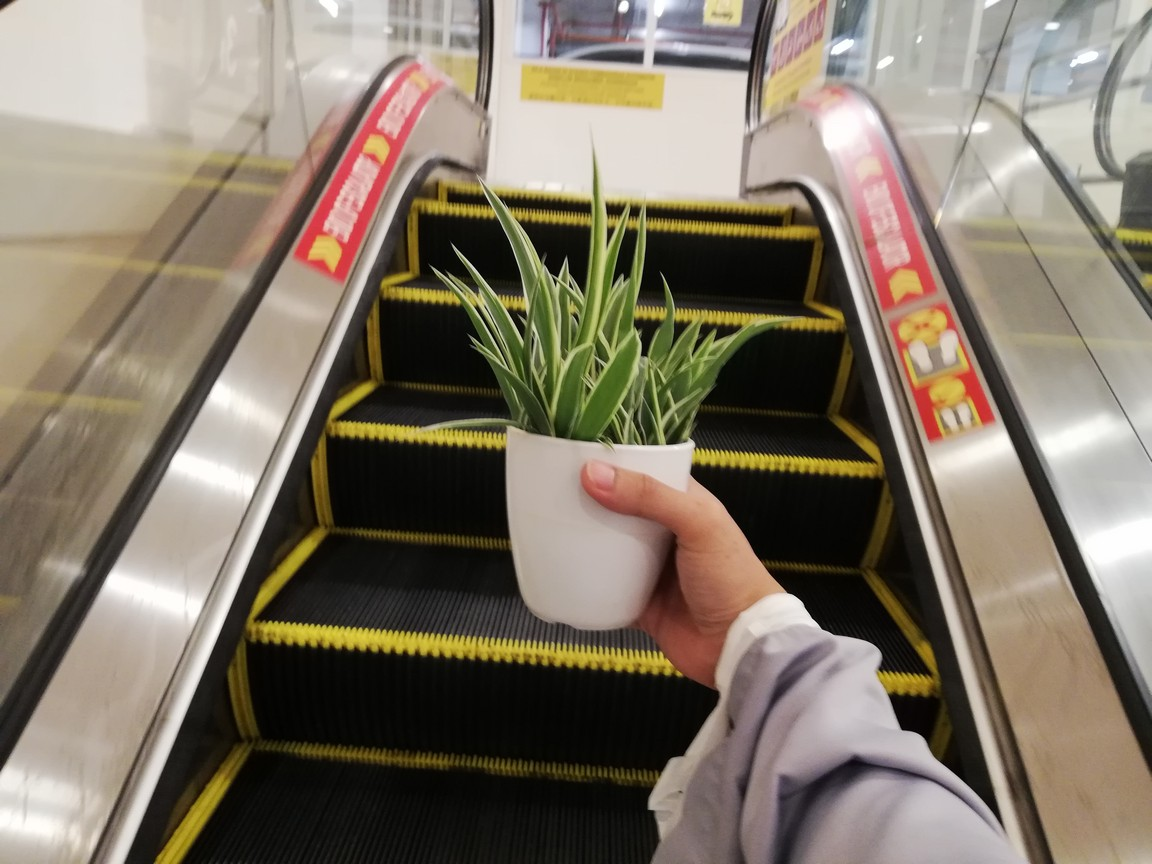daun: (476, 173, 533, 269), (718, 317, 809, 362), (589, 119, 608, 273), (602, 325, 643, 395), (406, 415, 510, 436), (607, 193, 633, 266), (633, 191, 649, 290), (656, 271, 674, 359), (429, 264, 466, 303), (450, 241, 478, 273), (682, 310, 709, 343), (639, 394, 657, 441), (701, 325, 721, 356), (446, 269, 468, 297), (467, 332, 490, 356), (611, 271, 627, 302), (597, 435, 617, 456), (469, 345, 492, 360), (560, 255, 569, 287), (516, 310, 528, 326)
